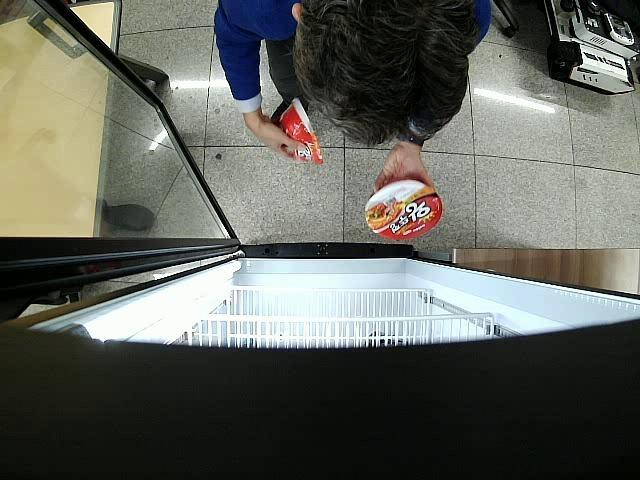10_wangTtukkeong: (365, 176, 443, 241), (279, 98, 324, 165)
